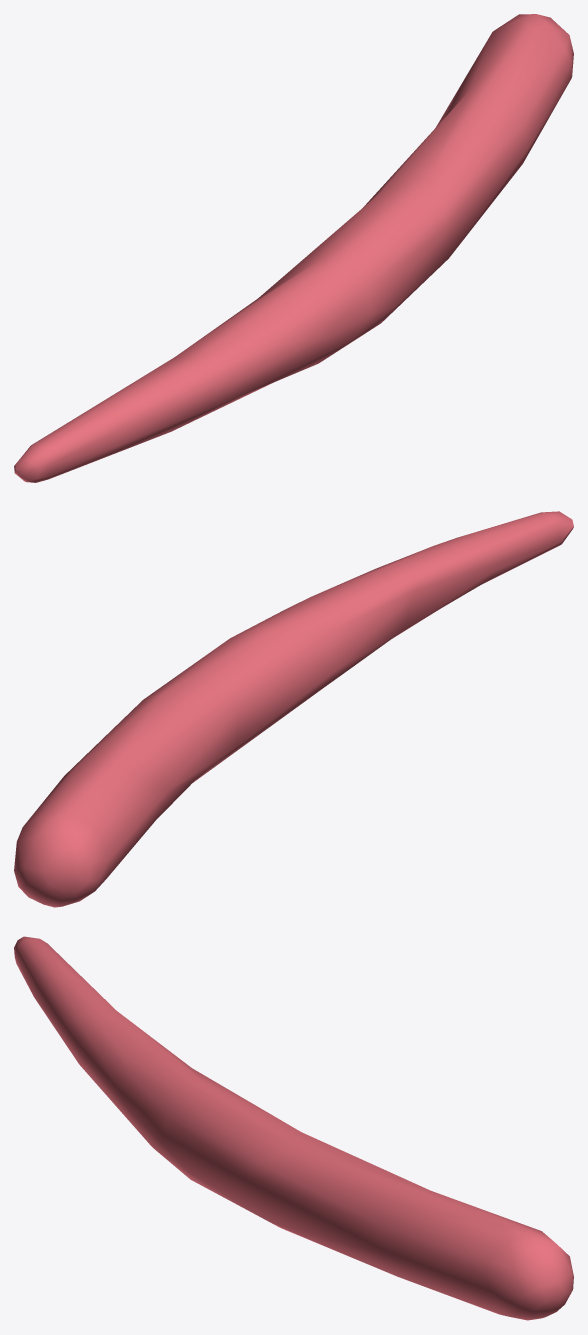
Rendered from fma68944_fj3038.glb.
3 renders of one model, top to bottom at view 1: azimuth 30°, elevation 25°; view 2: azimuth 210°, elevation 25°; view 3: azimuth 270°, elevation 25°, orthographic. The views are drawn at different scales.
Visible parts, largest first — view 1: FMA68944_FJ3038; view 2: FMA68944_FJ3038; view 3: FMA68944_FJ3038.
Boxes of the visible parts, x1,y1,x2,y2 form: FMA68944_FJ3038: (14, 14, 573, 482); FMA68944_FJ3038: (14, 511, 573, 907); FMA68944_FJ3038: (14, 936, 573, 1320).
Bounding box in the file's own units: 0.0402 × 0.00536 × 0.0245.
